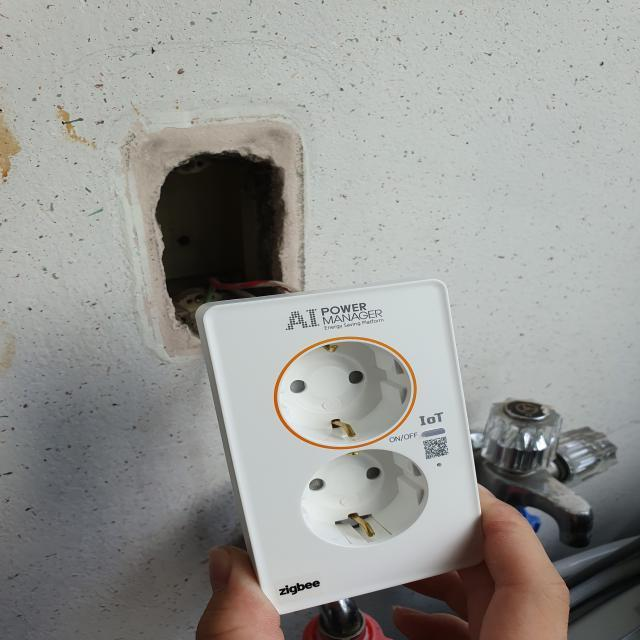typeb: (193, 299, 492, 610)
